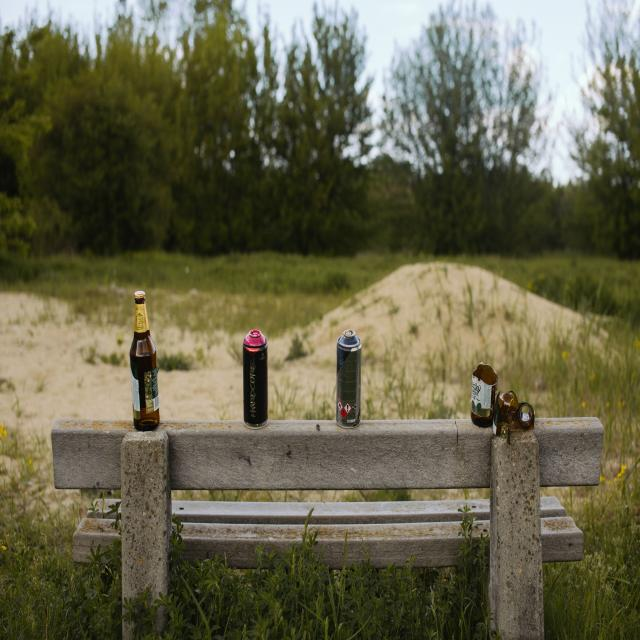Bottle: (130, 291, 159, 431), (243, 330, 267, 429), (471, 363, 497, 427)
